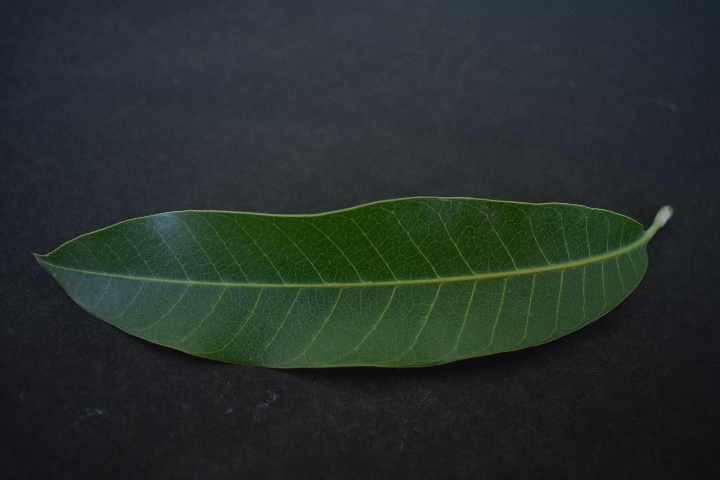healthy: (41, 194, 676, 370)
